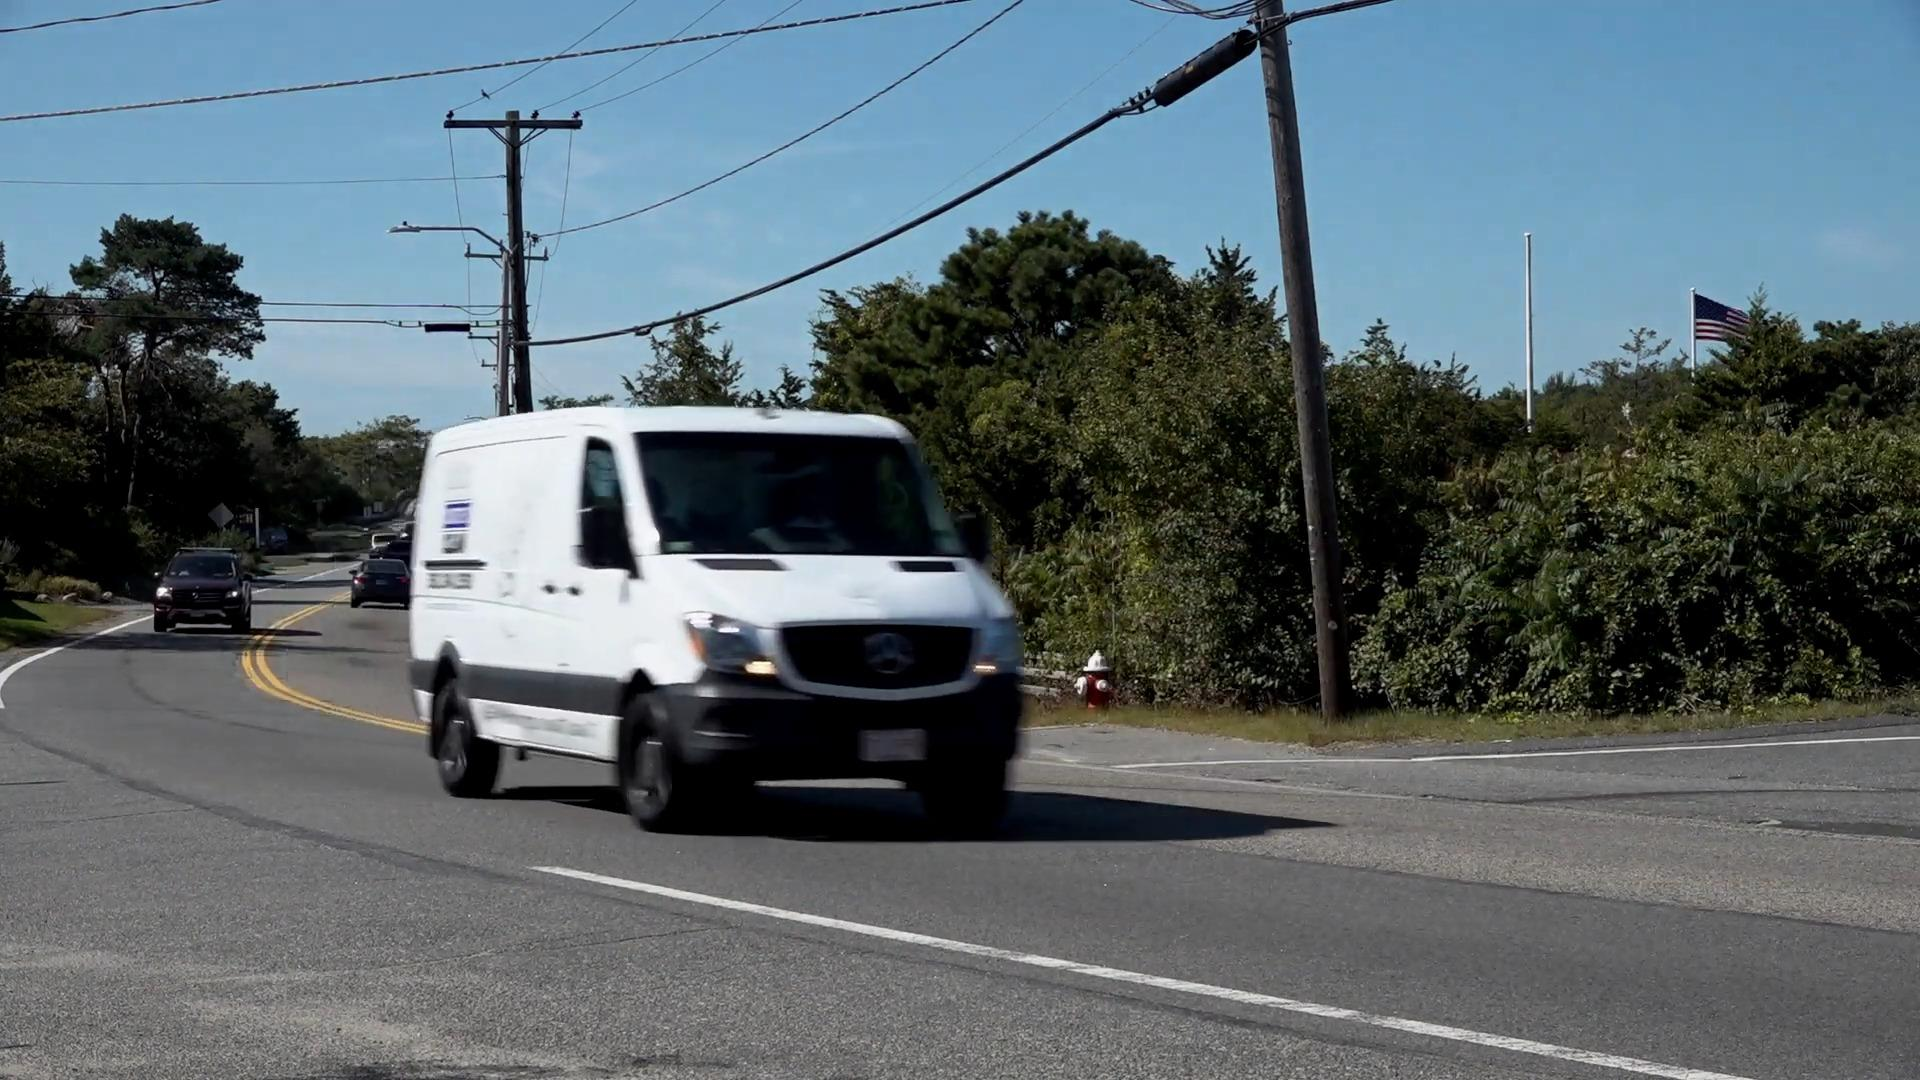minivan: (411, 410, 1027, 835)
sedans: (152, 550, 255, 634), (347, 558, 411, 609)
